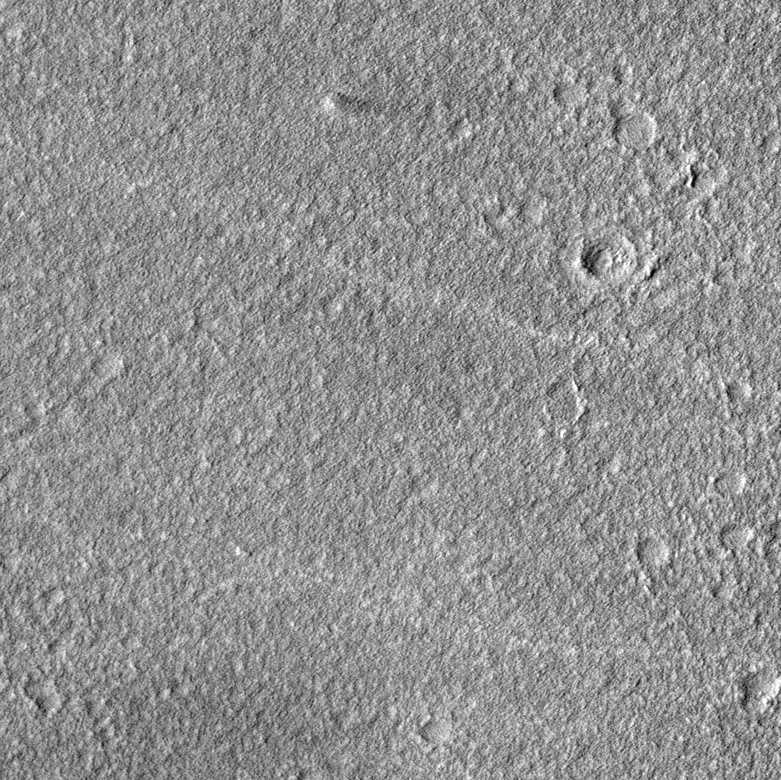dust_devil: (322, 89, 430, 129)
